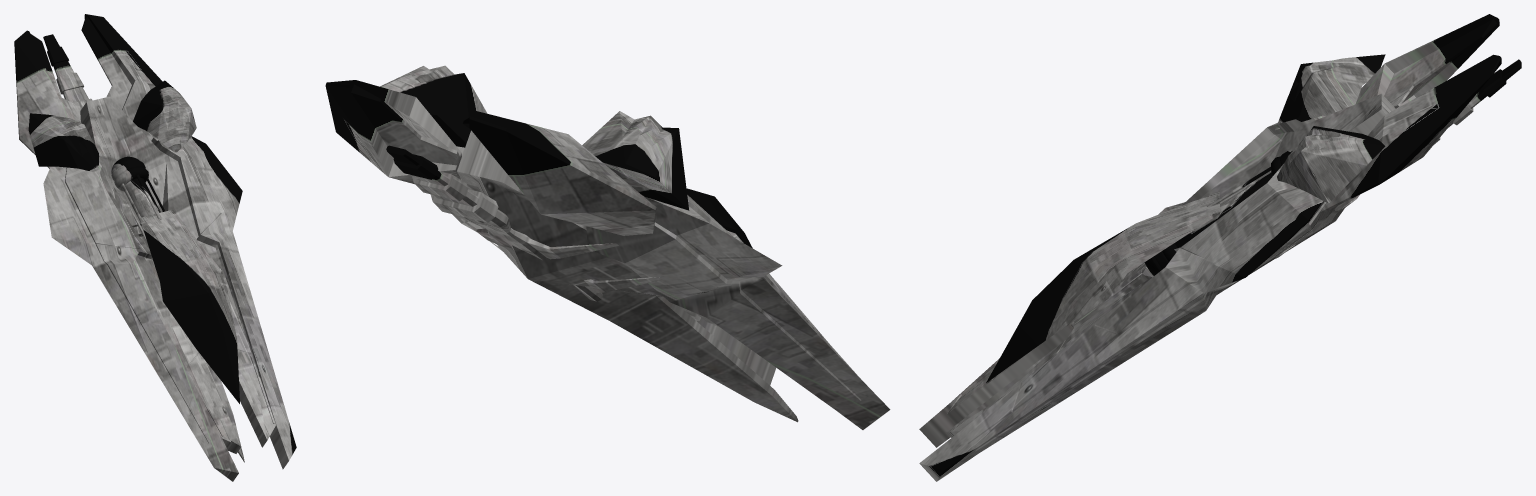
The model's file is weak_close.fbx.
The picture shows the model from 3 angles, left to right: view 1: azimuth 30°, elevation 25°; view 2: azimuth 150°, elevation 25°; view 3: azimuth 270°, elevation 25°; orthographic projection. The views are drawn at different scales.
Visible parts, largest first — view 1: hane:hane:polySurface21; view 2: hane:hane:polySurface21; view 3: hane:hane:polySurface21.
Boxes of the visible parts, x1,y1,x2,y2 form: hane:hane:polySurface21: (14, 14, 296, 481); hane:hane:polySurface21: (325, 65, 890, 429); hane:hane:polySurface21: (919, 14, 1521, 481).
Size of the model in its own units: 3.97 by 6.12 by 7.77.
Materials: 1 (1 with a texture image).
